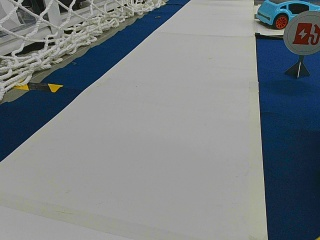battery: (285, 10, 319, 54)
car: (258, 1, 319, 28)
